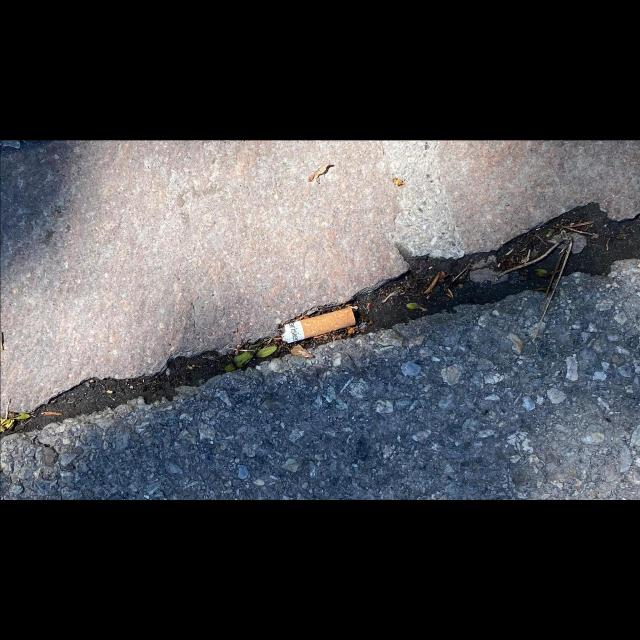cigarette: (280, 306, 356, 344)
